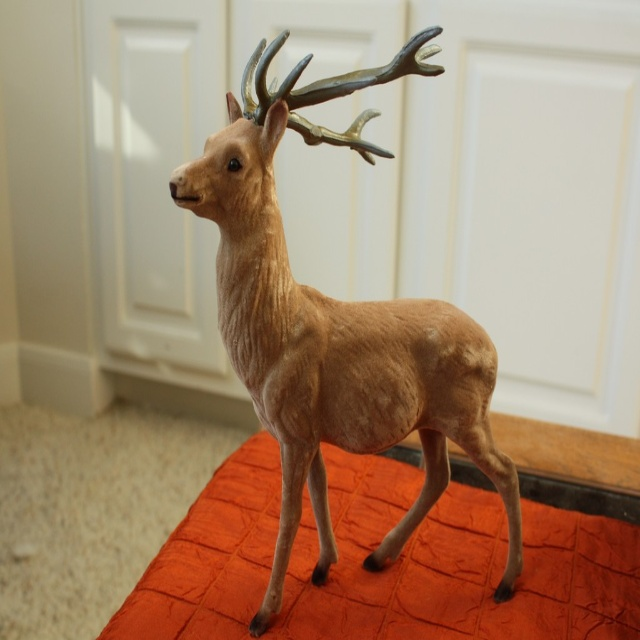Deer: (171, 25, 523, 639)
